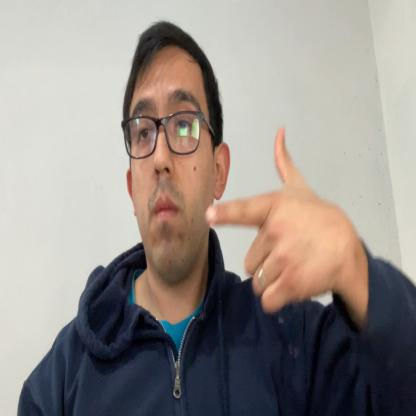G: (206, 126, 351, 313)
